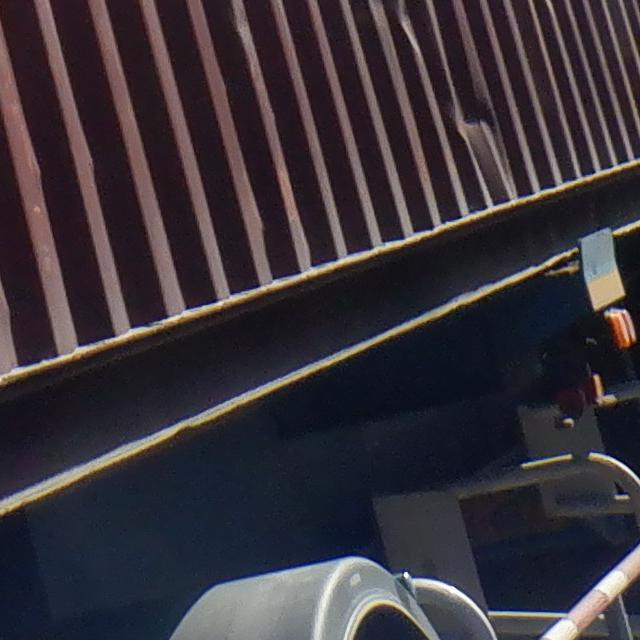dent: (435, 86, 529, 178), (364, 2, 430, 51)
